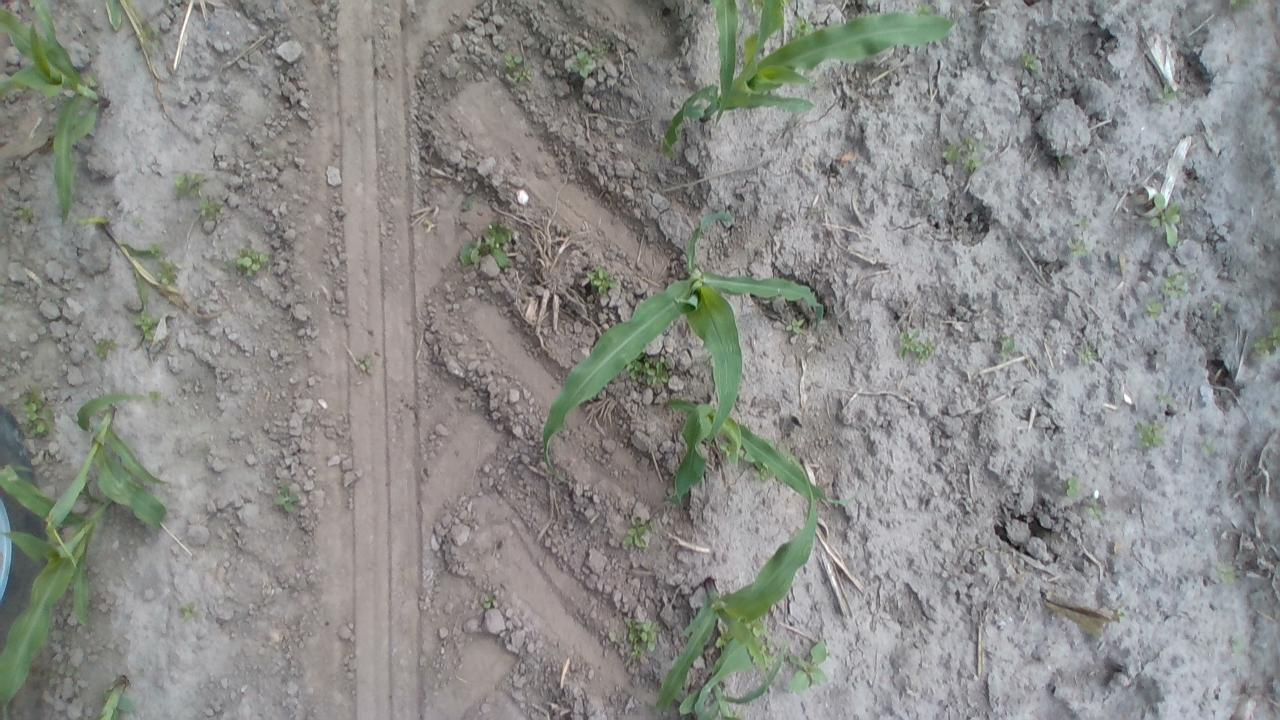Maize: (543, 208, 826, 466), (661, 0, 958, 158), (656, 453, 818, 720), (0, 464, 117, 712), (1, 1, 110, 226), (661, 398, 862, 507), (46, 394, 166, 532), (74, 217, 169, 314), (676, 641, 786, 720), (102, 676, 136, 720), (102, 1, 126, 28)
Weeds: (460, 217, 512, 268), (1147, 194, 1183, 249), (791, 641, 829, 692), (22, 388, 53, 437), (941, 140, 980, 176), (624, 616, 659, 654), (900, 326, 939, 359), (622, 518, 653, 550), (173, 172, 204, 198), (1254, 326, 1280, 357), (238, 248, 268, 274), (588, 269, 616, 296), (568, 50, 594, 79), (648, 360, 671, 390), (136, 316, 158, 347), (1139, 425, 1162, 453), (156, 262, 182, 286), (276, 485, 297, 513), (1162, 274, 1188, 294), (198, 197, 220, 218), (790, 14, 811, 35), (1067, 238, 1088, 258), (998, 338, 1018, 359), (1218, 565, 1238, 584), (95, 338, 112, 358), (1147, 302, 1164, 322), (505, 53, 524, 70), (480, 591, 499, 608), (786, 318, 806, 334), (626, 362, 643, 380), (747, 622, 767, 636), (14, 206, 31, 222), (148, 245, 166, 260), (1075, 349, 1095, 361), (361, 357, 375, 374), (1228, 0, 1254, 9), (182, 603, 197, 618), (513, 69, 529, 83), (914, 4, 932, 16), (1066, 478, 1076, 498), (1113, 608, 1127, 622), (1203, 440, 1218, 453), (1023, 55, 1037, 68), (1080, 215, 1090, 232), (1163, 85, 1173, 101), (758, 466, 768, 482), (1212, 302, 1222, 318), (150, 393, 164, 404), (1159, 390, 1171, 402), (1230, 636, 1240, 650)
